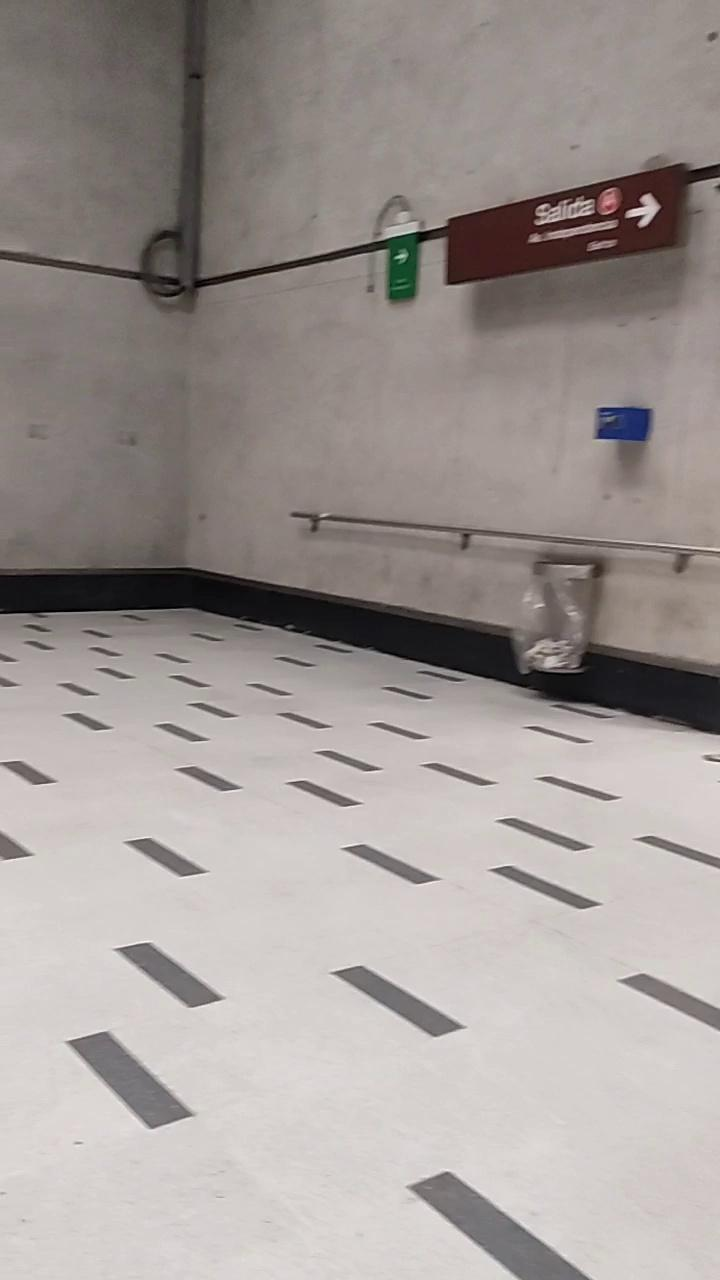right arrow: (622, 190, 663, 230)
